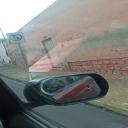NoEstacionar: (2, 32, 34, 46)
